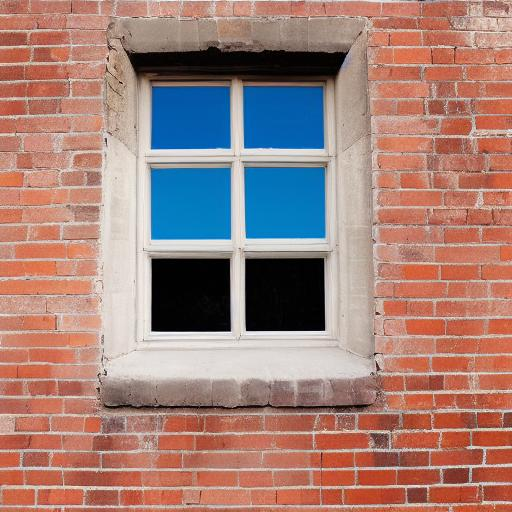Window: (93, 14, 385, 412)
